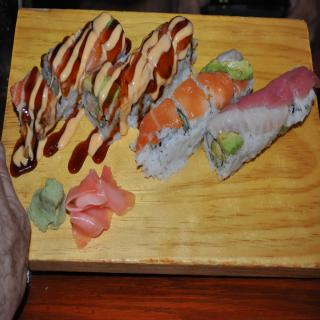Sushi: (9, 12, 318, 184), (197, 61, 316, 178)
